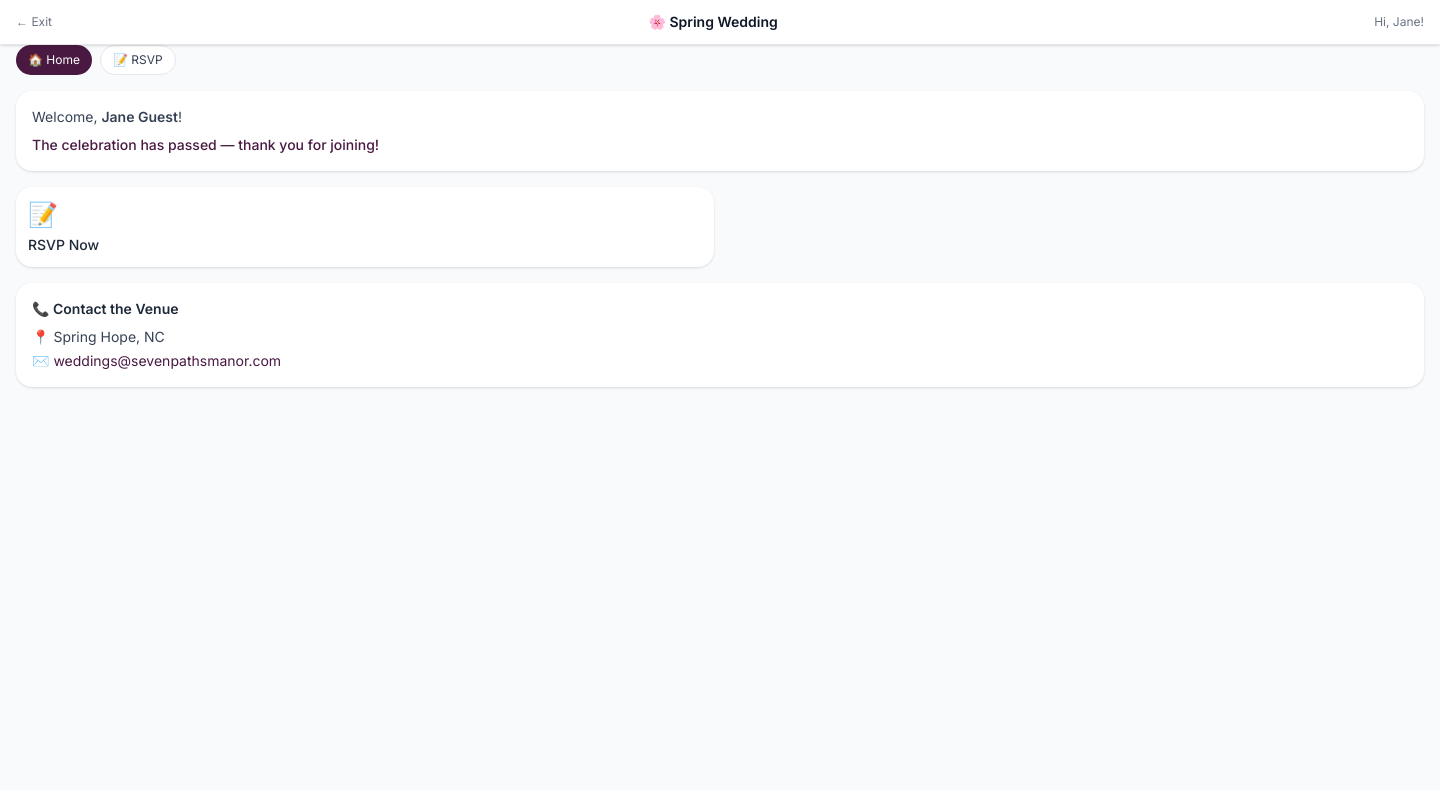
Test case: GuestPortal configurable meal options › renders the default meal options when none are configured
Click the button "📝 RSVP Now".
click(64, 244)  # box x1=16 y1=187 x2=714 y2=267
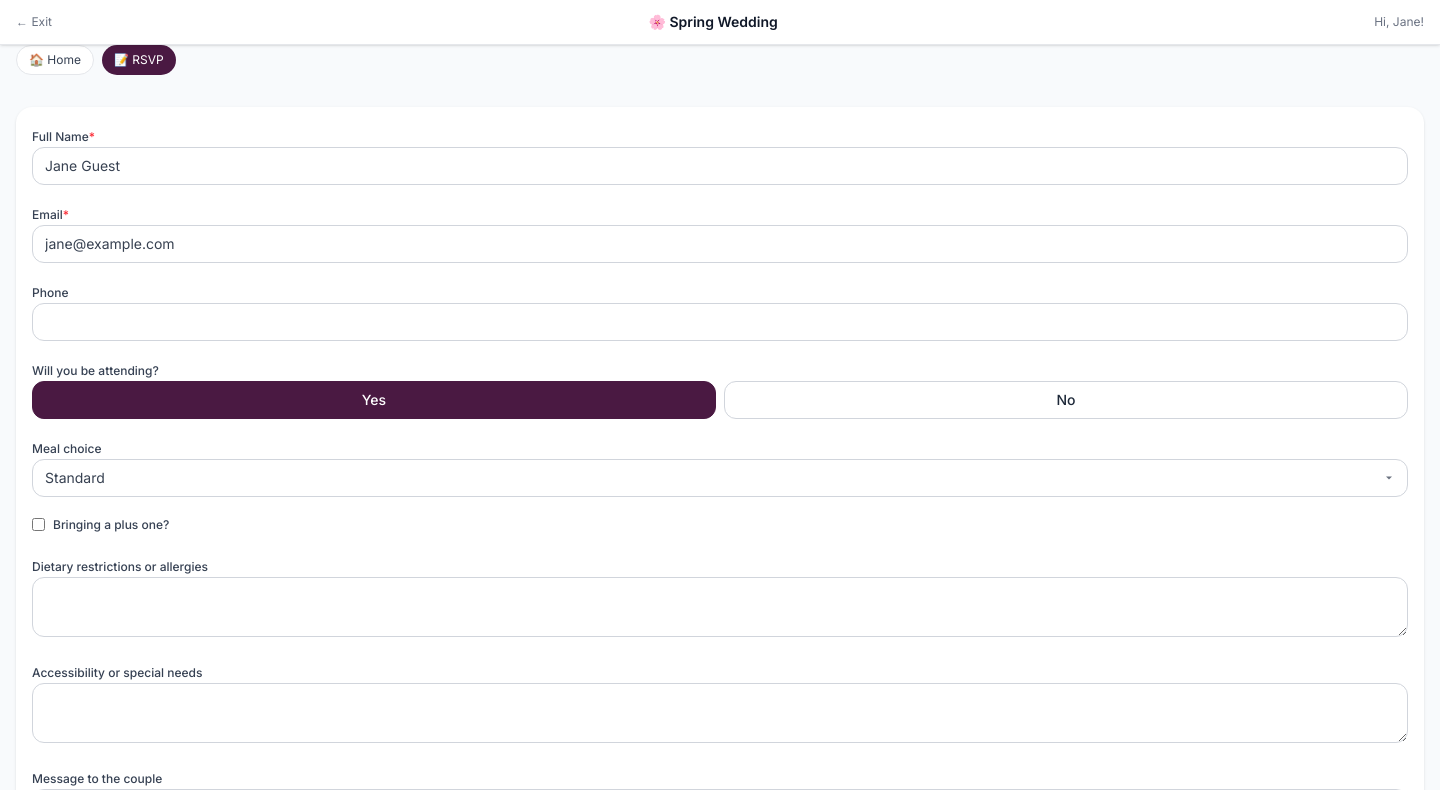
Now the dropdown labelled "Meal choice" is shown, box x1=32 y1=459 x2=1408 y2=497
